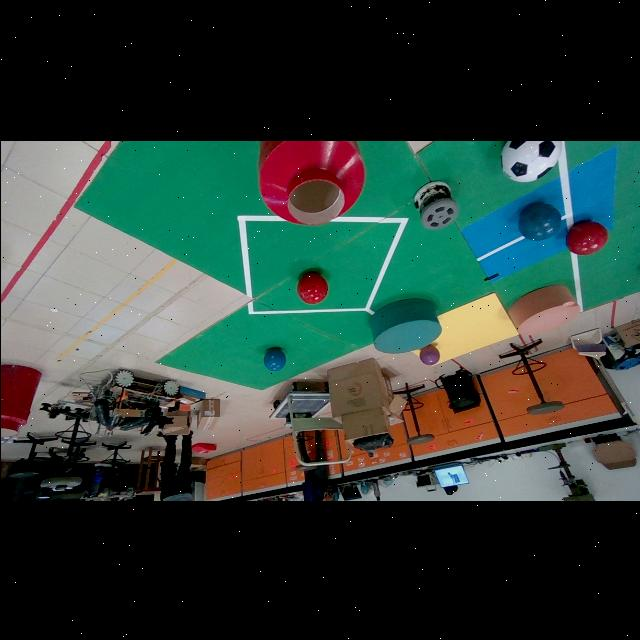B: (517, 202, 560, 240), (263, 347, 285, 370)
P: (418, 344, 439, 365)
R: (564, 220, 606, 254), (295, 271, 327, 303)
